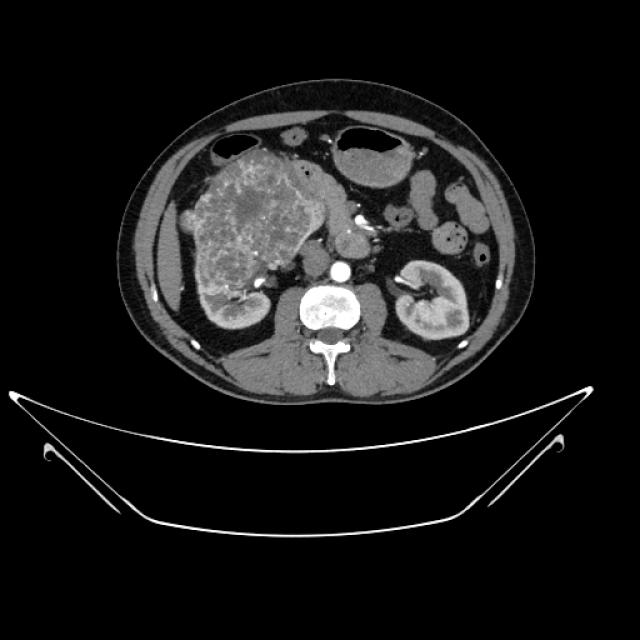Tumor: (194, 136, 322, 334)
